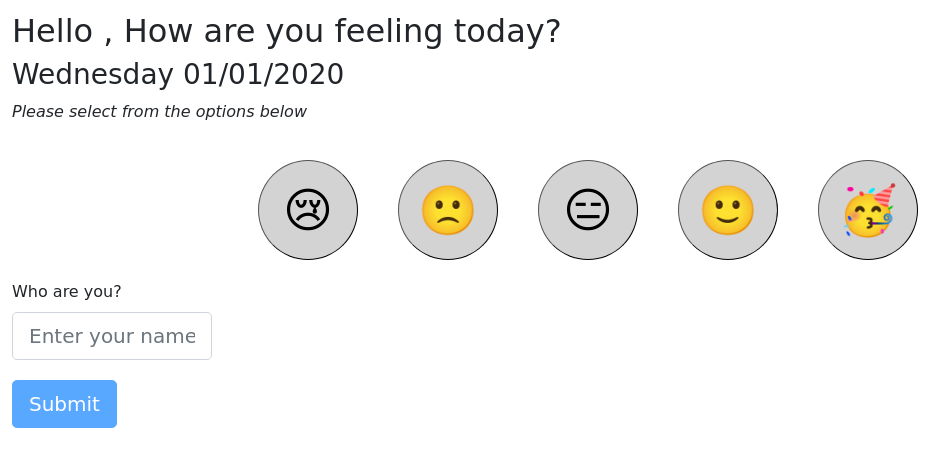
Colleague Interface component › displays a success alert when request is successful
Click the button named "ecstatic" at (868, 210), box [818,160,918,260]
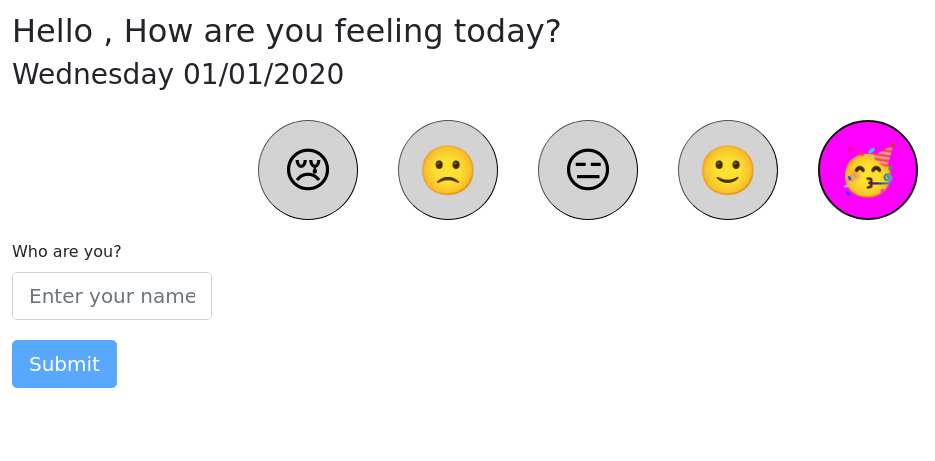
Type "tester" into the field labelled "Who are you?" at (112, 296), box [12,272,212,320]
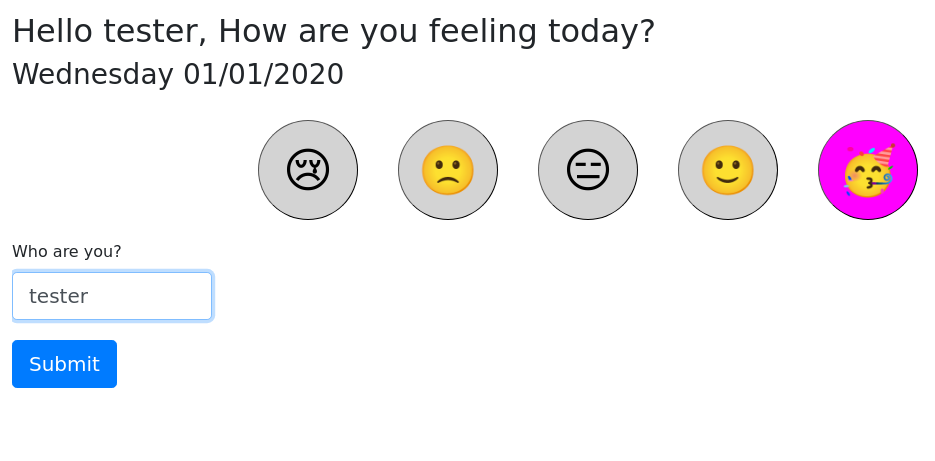
Click the button "Submit" at (64, 364), box [12,340,117,388]
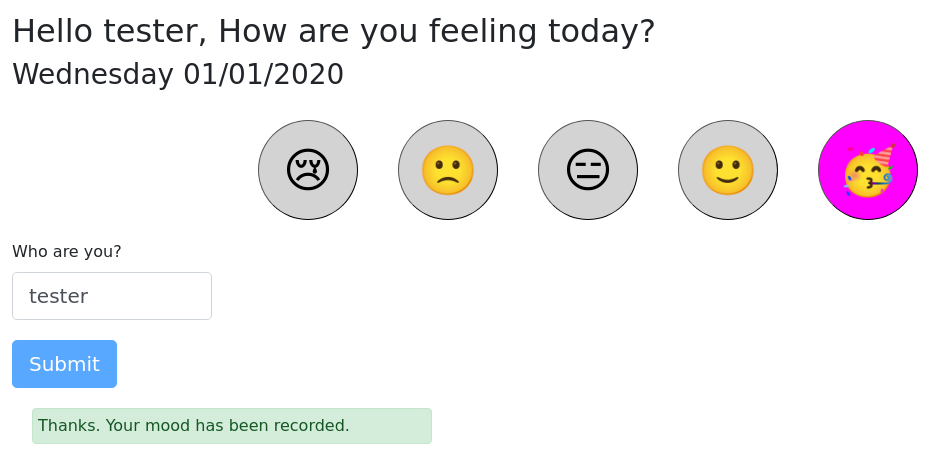
Expected: the message reads "Thanks. Your mood has been recorded.", [38,416,350,435]
